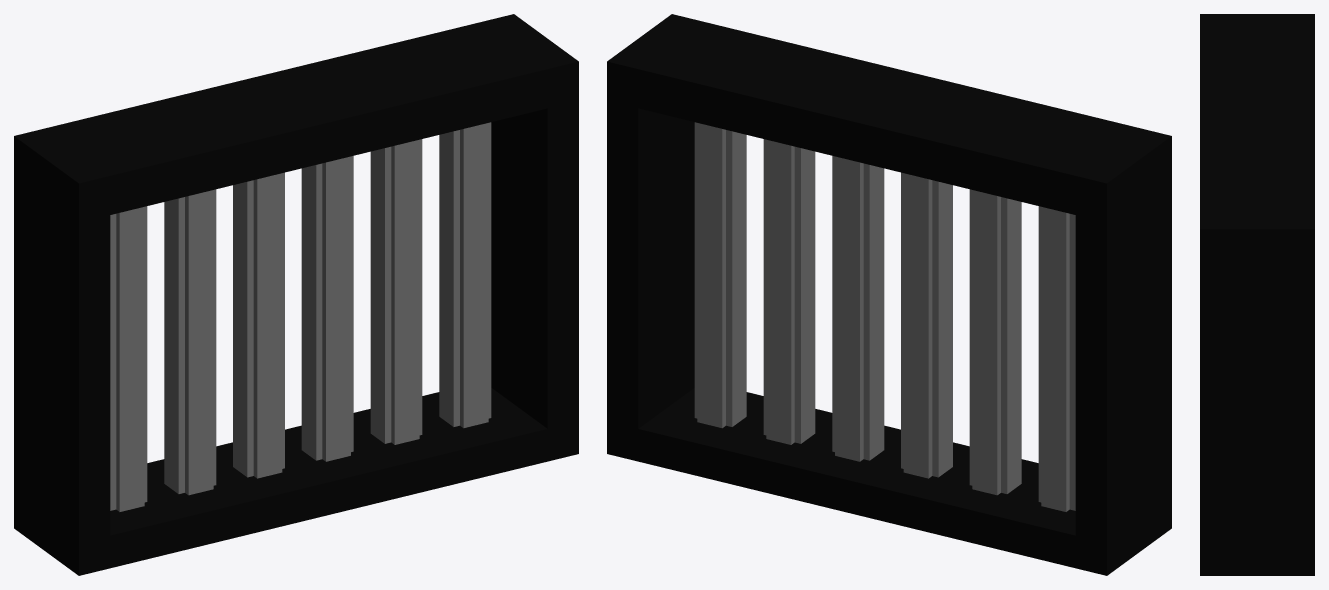
Rendered from Basic_Prison_Door.obj.
The picture shows the model from 3 angles, left to right: view 1: azimuth 30°, elevation 25°; view 2: azimuth 150°, elevation 25°; view 3: azimuth 270°, elevation 25°; orthographic projection. The views are drawn at different scales.
Bounding box in the file's own units: 8 × 6 × 1.8.
Materials: 1 (1 with a texture image).
